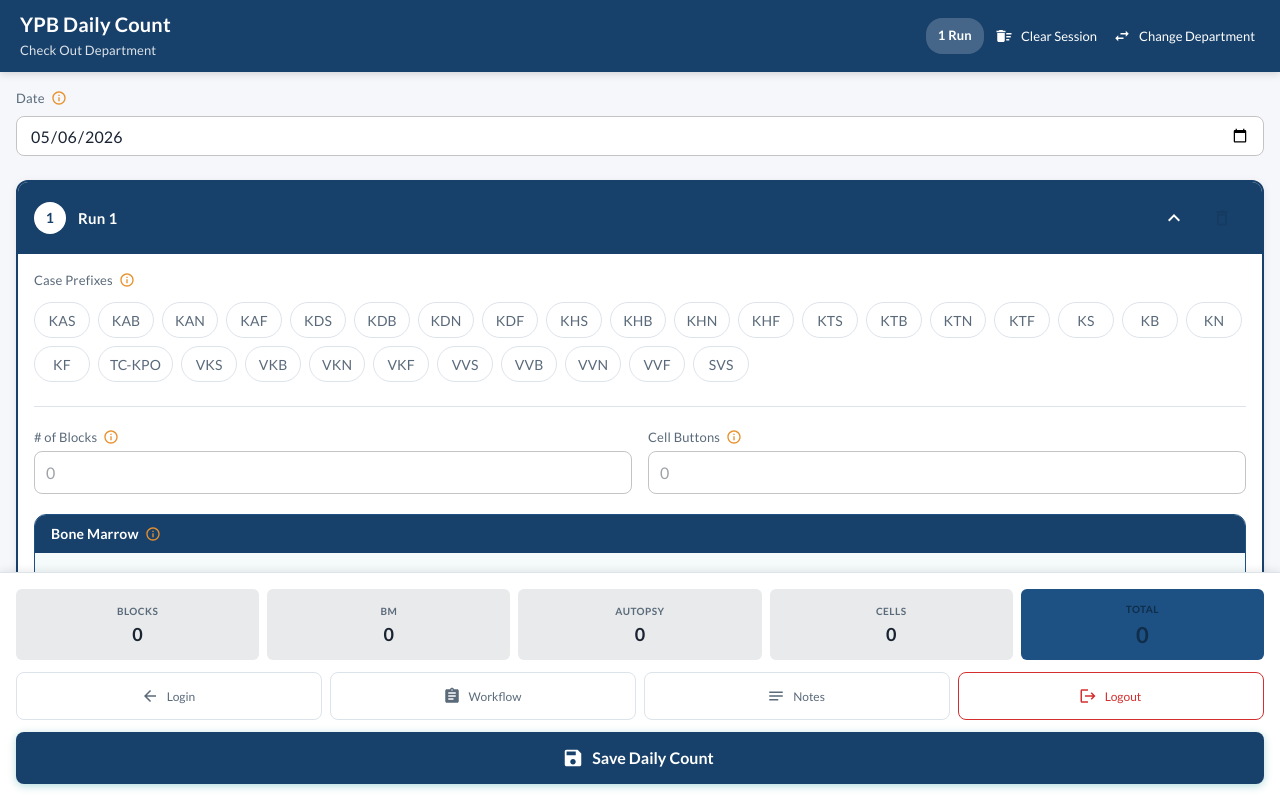
Form Workflow Integration › should handle multiple facilities correctly
Select prefixes from different facilities using exact matches
Click the button "KS": (1086, 320) [1058,302,1114,338]
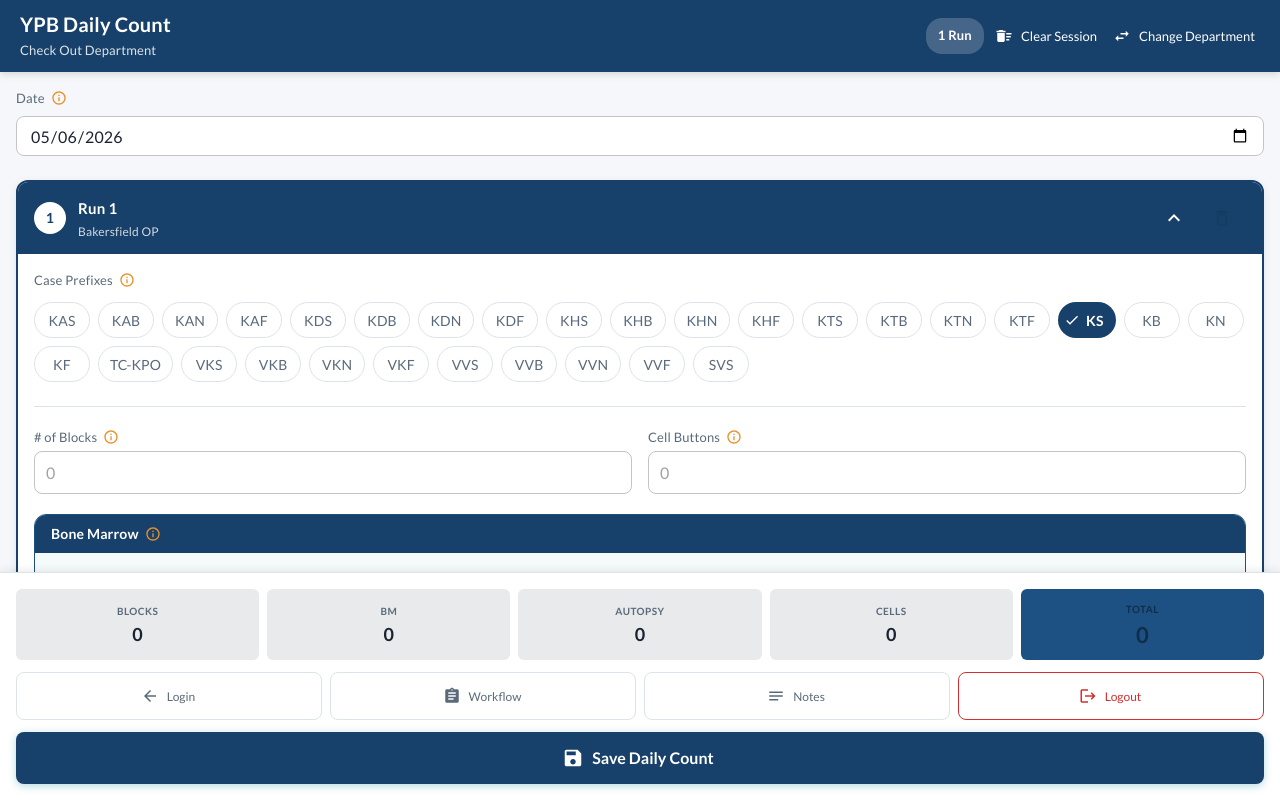
Click the button "VVS": (465, 364) [437,346,493,382]
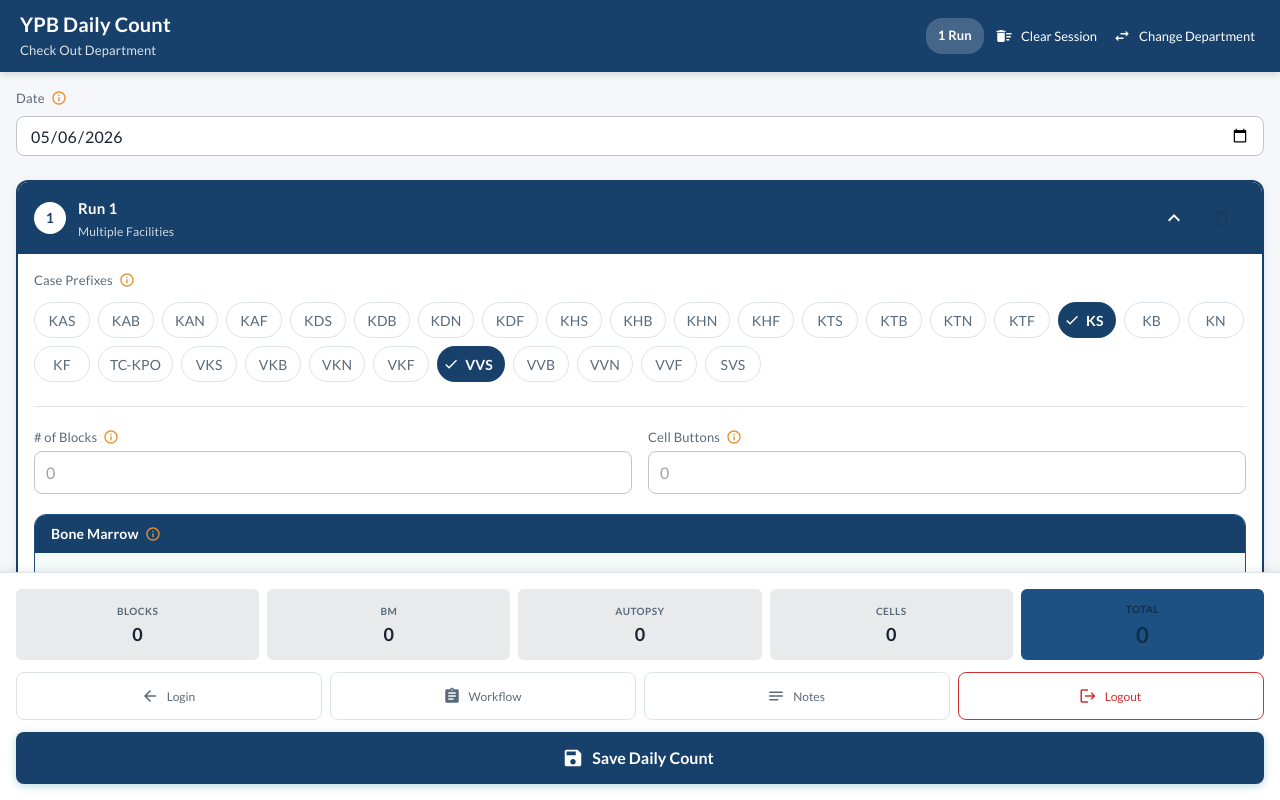
Result: the text "Multiple Facilities" is shown at [78,222,174,242]
